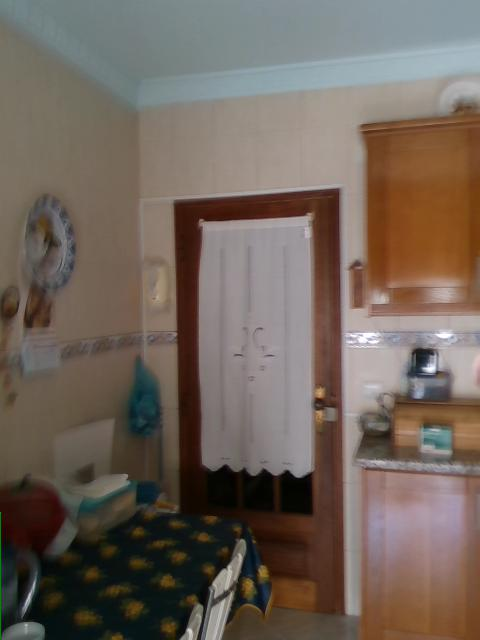door: (174, 189, 346, 621)
